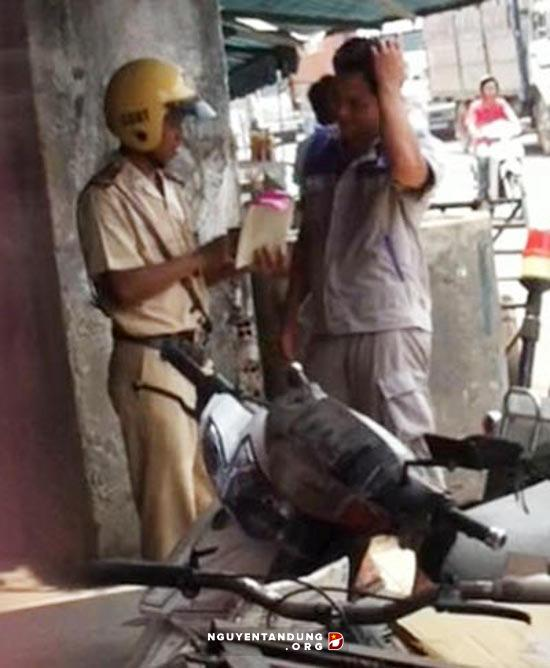police: (63, 40, 299, 562)
